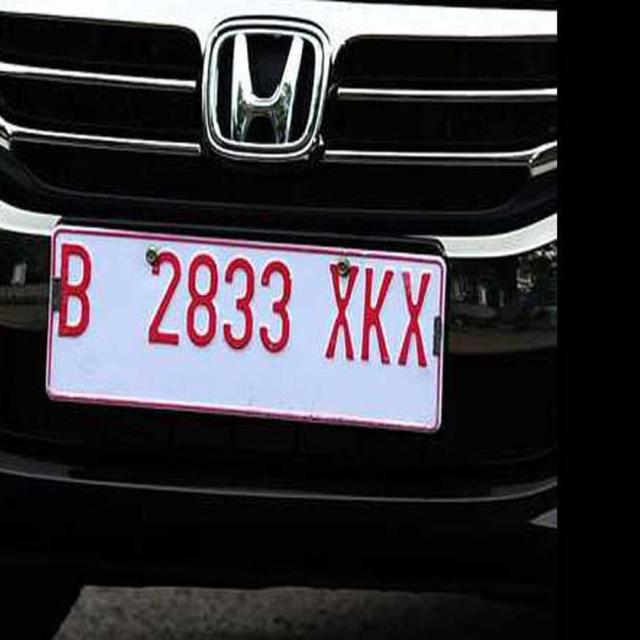license-plat: (34, 205, 462, 478)
